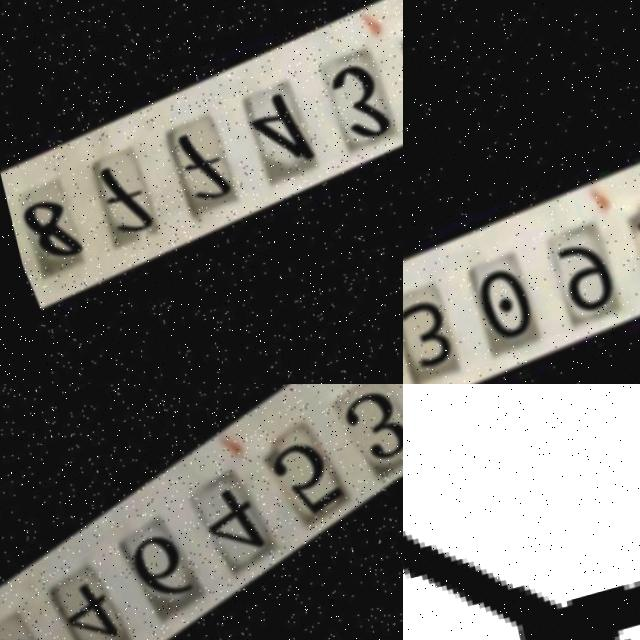0: (444, 246, 555, 378)
3: (311, 55, 399, 166), (321, 384, 403, 501), (403, 283, 470, 384)
4: (177, 471, 283, 596), (230, 82, 321, 197), (36, 565, 135, 640)
5: (249, 426, 355, 551), (605, 194, 640, 321)
6: (102, 513, 211, 640)
7: (157, 121, 238, 224), (79, 153, 158, 256)
8: (3, 179, 88, 289)
9: (526, 223, 635, 348)
A: (403, 384, 640, 640)
